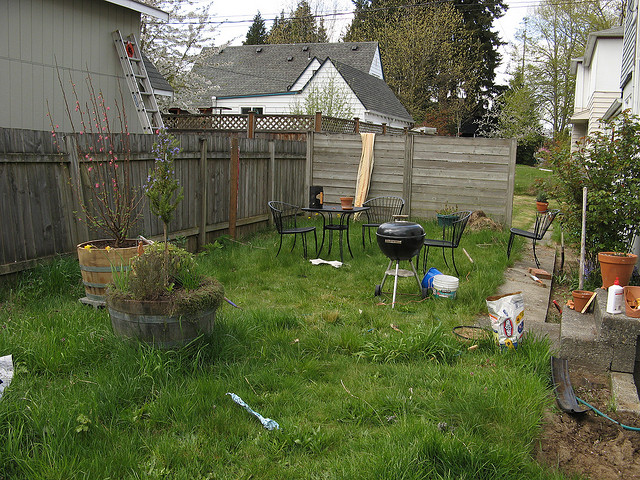bucket: (433, 269, 461, 302), (423, 263, 443, 291)
container: (552, 352, 590, 419), (599, 241, 637, 291), (434, 273, 462, 303)
pot: (106, 274, 230, 374), (78, 232, 164, 312), (597, 246, 638, 294), (570, 283, 594, 313), (339, 191, 359, 211), (536, 197, 550, 215)
